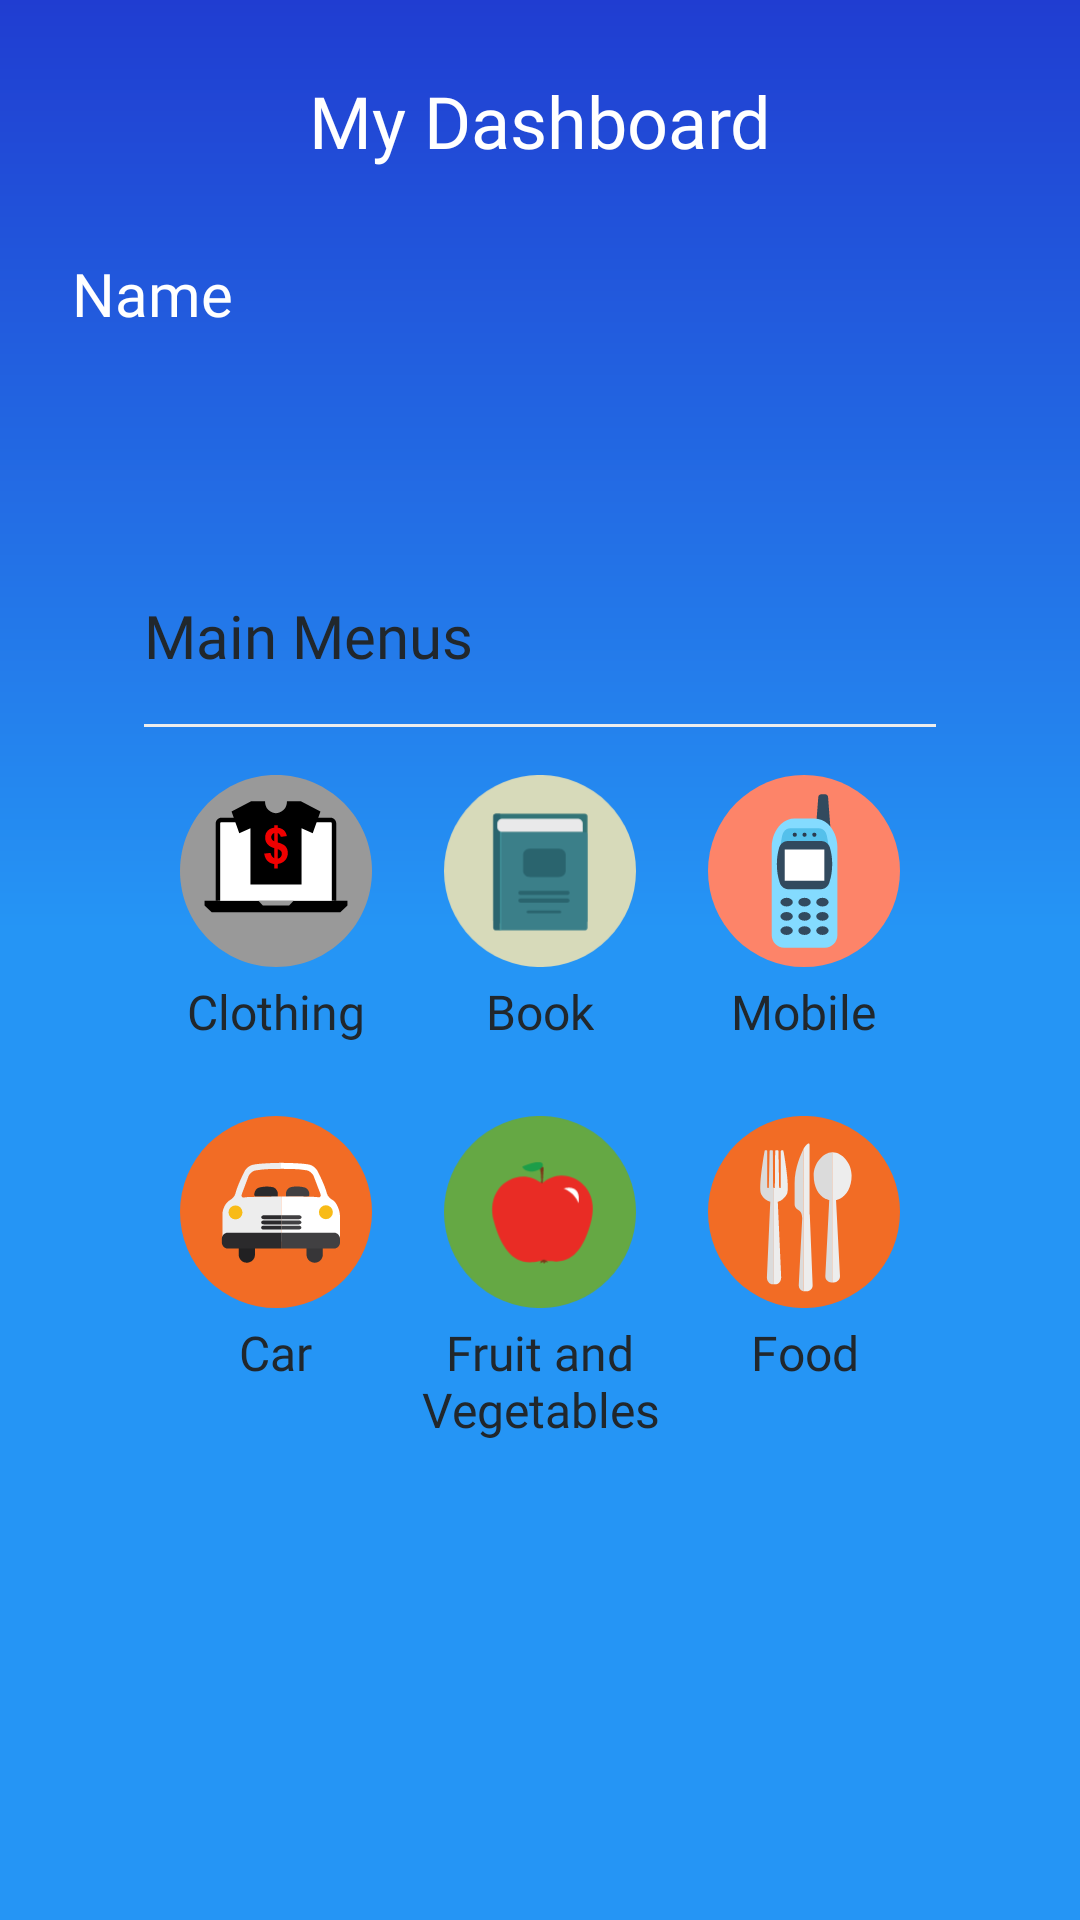

Named icons in this screenshot (1080w x 1920h) and their centers, (x,y):
apple: (540,1212)
cutlery: (804,1212)
